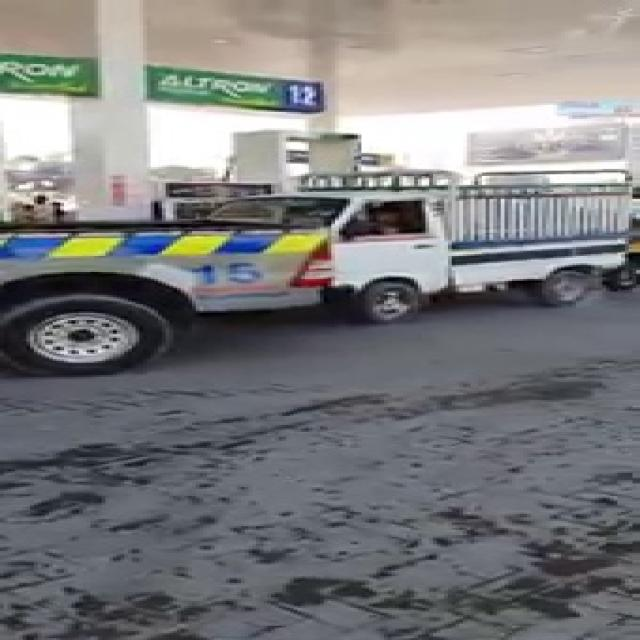police: (0, 156, 355, 396)
